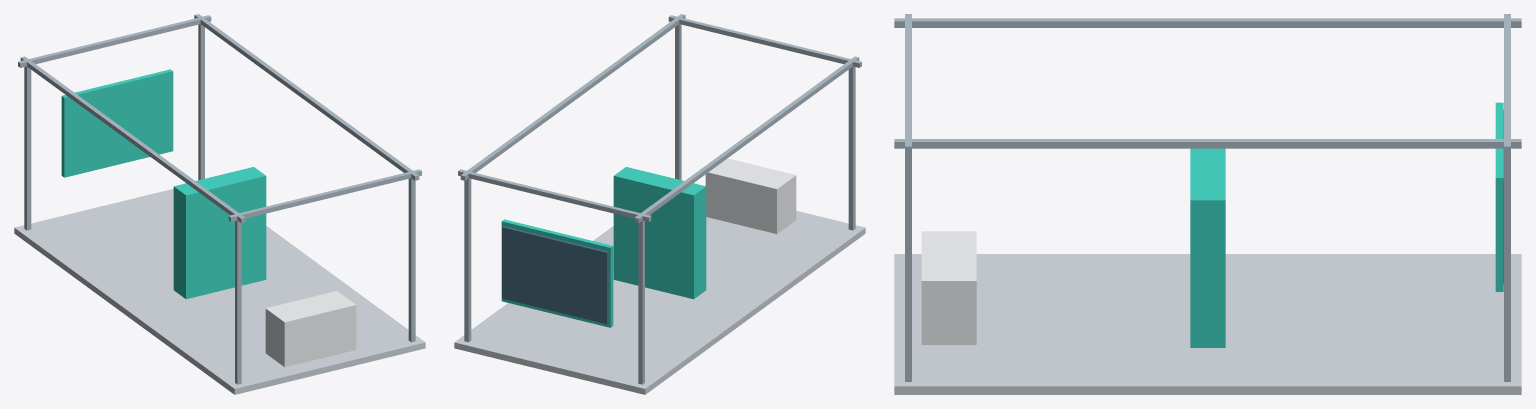
3 renders of one model, left to right at view 1: azimuth 30°, elevation 25°; view 2: azimuth 150°, elevation 25°; view 3: azimuth 270°, elevation 25°, orthographic. The views are drawn at different scales.
Parts seen in each view (by area): view 1: Exhibition Booth Concept; view 2: Exhibition Booth Concept; view 3: Exhibition Booth Concept.
Part boxes in pixels (x1,y1,x2,y2): Exhibition Booth Concept: (14,14,425,394); Exhibition Booth Concept: (454,14,865,394); Exhibition Booth Concept: (894,14,1521,394).
Size of the model in its own units: 4 by 3.49 by 8.
